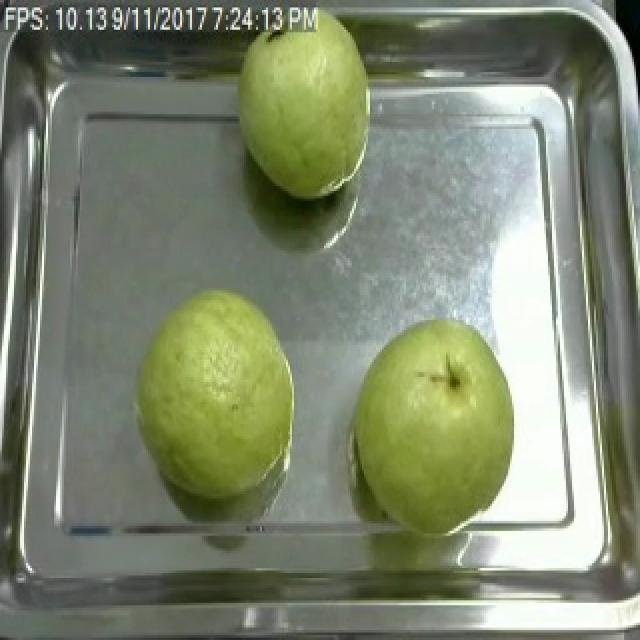Fruit: (344, 305, 524, 538), (128, 278, 306, 506), (228, 8, 382, 208)
